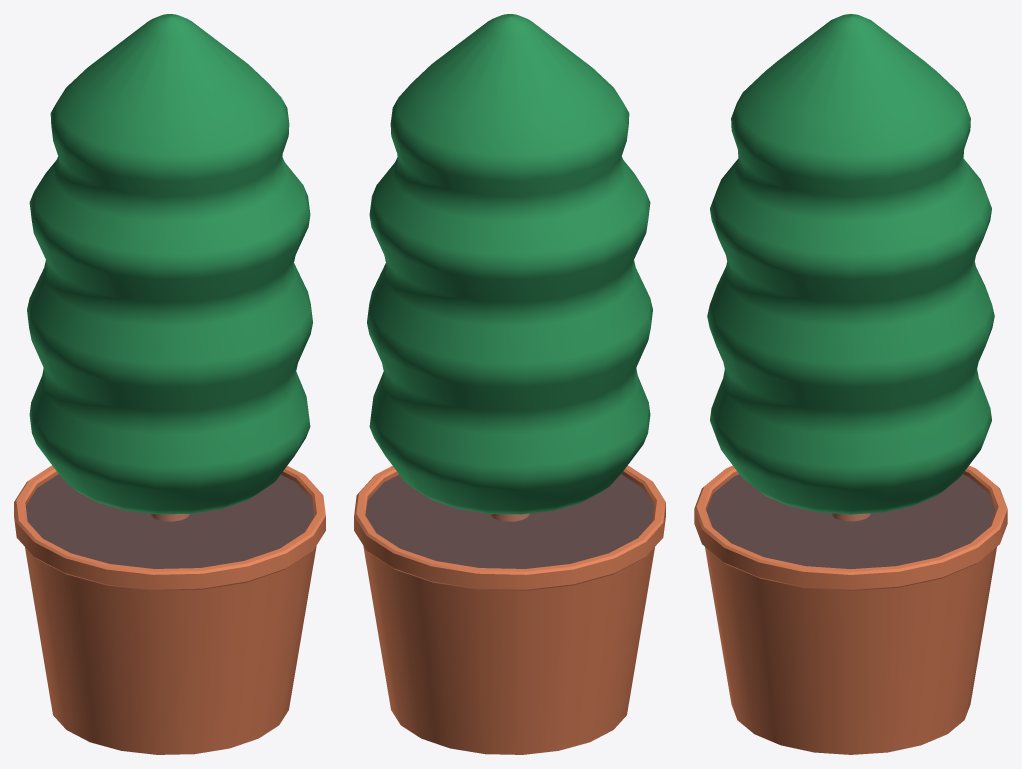
Rendered from Plant (updated).fbx.
3 views of the same model, side by side, from view 1: azimuth 30°, elevation 25°; view 2: azimuth 150°, elevation 25°; view 3: azimuth 270°, elevation 25° (orthographic).
Parts seen in each view (by area): view 1: Plant; view 2: Plant; view 3: Plant.
Boxes of the visible parts, x1=… form: Plant: x1=14, y1=14, x2=325, y2=754; Plant: x1=354, y1=14, x2=665, y2=754; Plant: x1=694, y1=14, x2=1007, y2=754.
Bounding box in the file's own units: 135 × 327 × 135.
